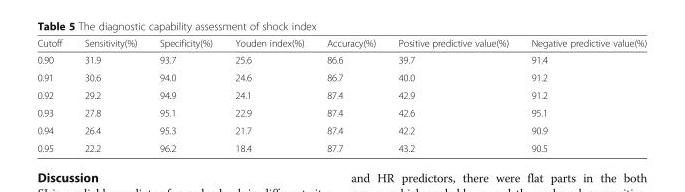table: (36, 37, 646, 153)
table column: (386, 37, 519, 153), (519, 37, 646, 153), (223, 37, 314, 153), (147, 37, 223, 153), (72, 37, 147, 153), (314, 37, 386, 153), (36, 37, 72, 153)
table column header: (36, 37, 646, 51)
table row: (36, 85, 646, 103), (36, 103, 646, 121), (36, 121, 646, 139), (36, 51, 646, 68), (36, 68, 646, 85), (36, 37, 646, 51), (36, 139, 646, 153)
